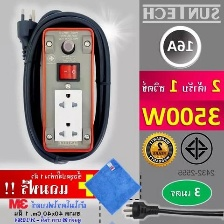three_eye_plug: (39, 24, 97, 154)
